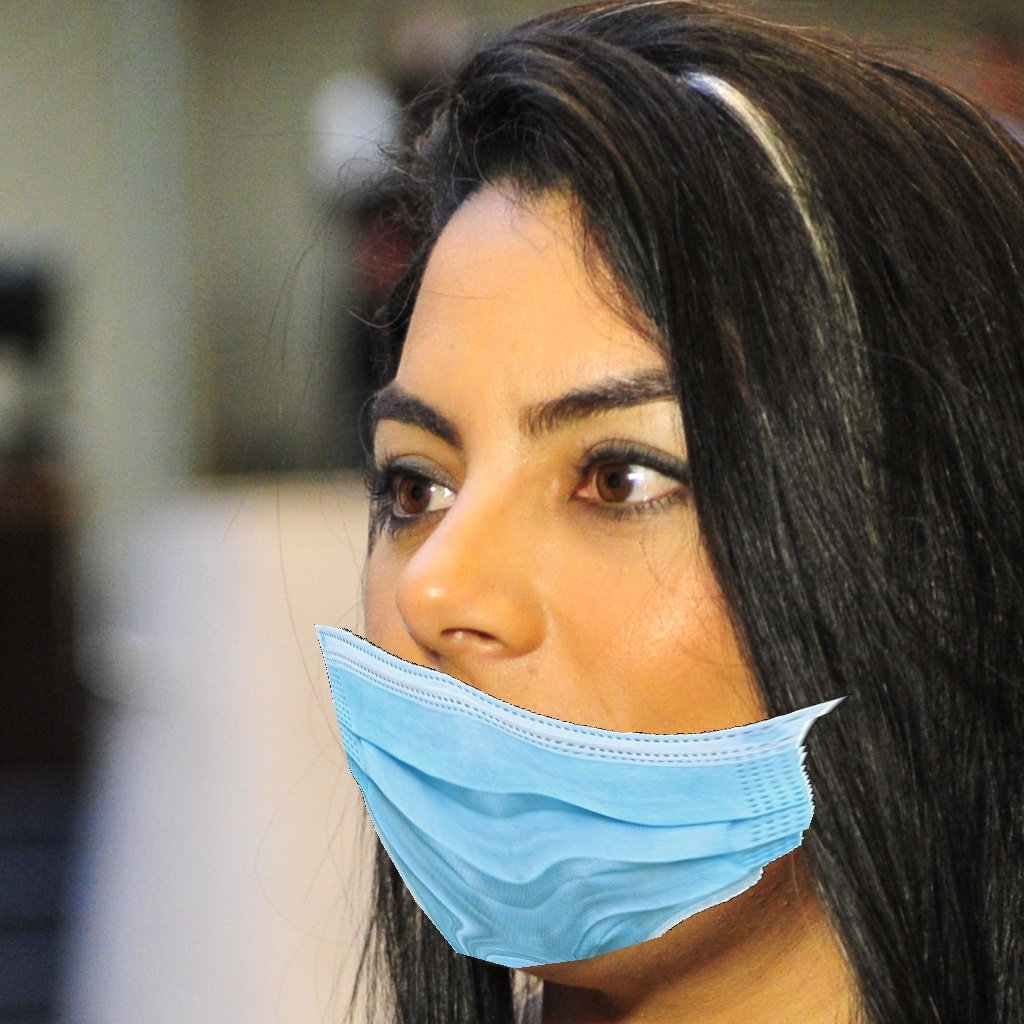mascarilla_mal_puesta: (332, 400, 847, 970)
